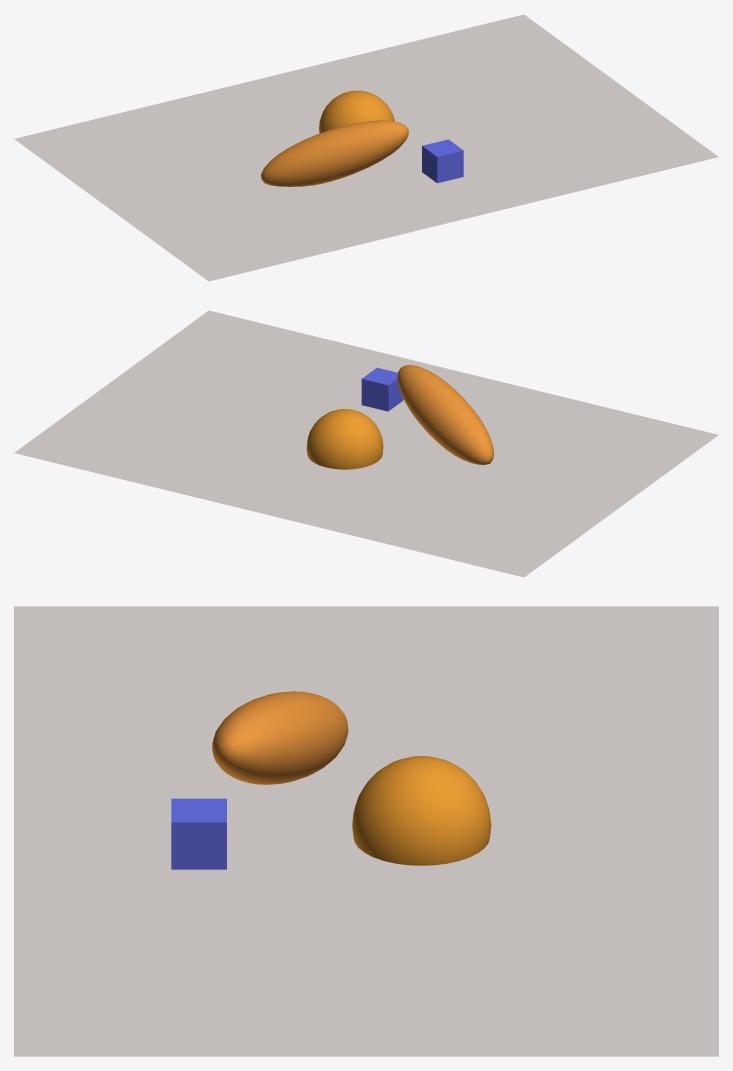
File: myflattestsmooth.gltf
3 views of the same model, one above another, from view 1: azimuth 30°, elevation 25°; view 2: azimuth 150°, elevation 25°; view 3: azimuth 270°, elevation 25° (orthographic). The views are drawn at different scales.
Visible parts, largest first — view 1: Plane, Sphere.001, Sphere, Cube; view 2: Plane, Sphere.001, Sphere, Cube; view 3: Plane, Sphere, Sphere.001, Cube.
Boxes of the visible parts, x1,y1,x2,y2 form: Plane: [14, 14, 718, 281]; Sphere.001: [261, 120, 408, 186]; Sphere: [319, 90, 394, 133]; Cube: [422, 139, 463, 183]; Plane: [14, 310, 718, 577]; Sphere.001: [397, 365, 493, 464]; Sphere: [306, 409, 383, 469]; Cube: [361, 367, 403, 411]; Plane: [14, 606, 718, 1056]; Sphere: [352, 756, 491, 865]; Sphere.001: [212, 691, 348, 784]; Cube: [171, 798, 226, 869].
Bounding box in the file's own units: 91.08 × 14.21 × 60.24.
